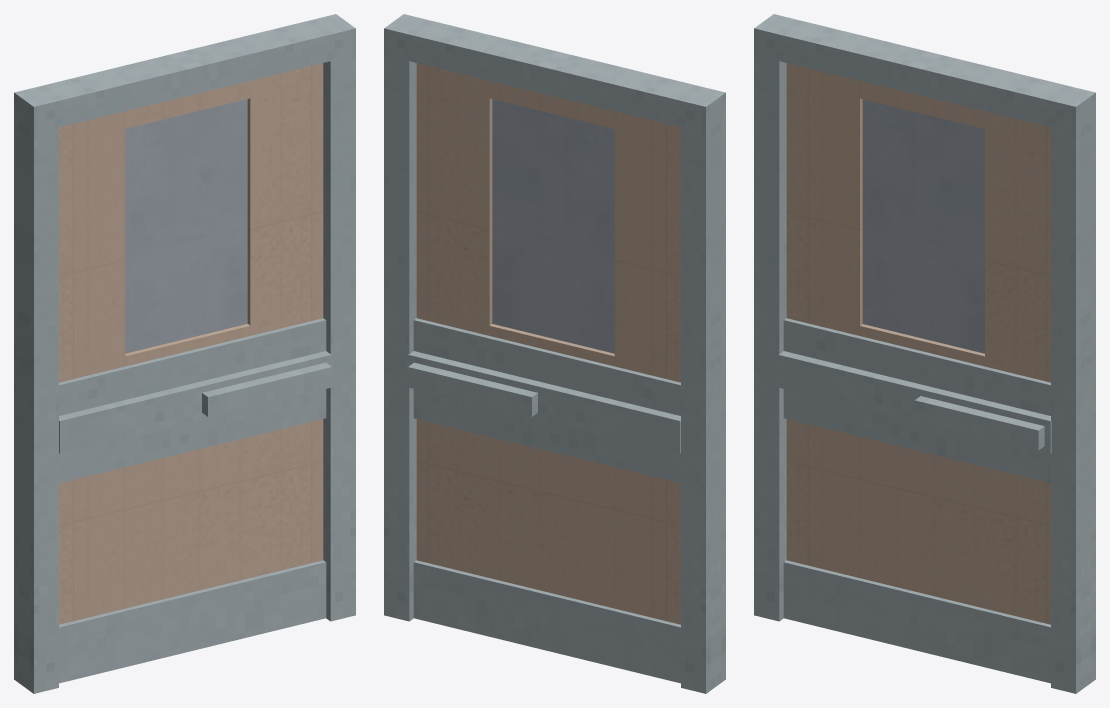
Rendered from DoorType2V1.fbx.
3 views of the same model, side by side, from view 1: azimuth 30°, elevation 25°; view 2: azimuth 150°, elevation 25°; view 3: azimuth 330°, elevation 25° (orthographic).
Visible parts, largest first — view 1: DoorType2V1; view 2: DoorType2V1; view 3: DoorType2V1.
Boxes of the visible parts, box(x1,y1,x2,y2) form: DoorType2V1: box(14, 14, 355, 693); DoorType2V1: box(384, 14, 725, 693); DoorType2V1: box(754, 14, 1095, 693).
Bounding box in the file's own units: 931 × 1621 × 167.
